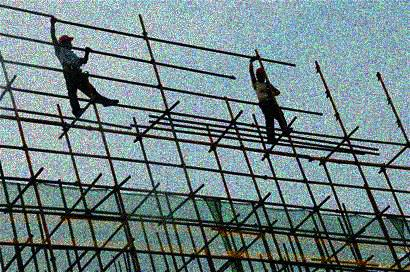helmet: (58, 33, 76, 50), (255, 66, 269, 82)
